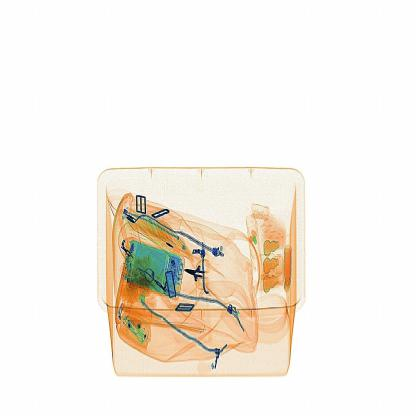gun: (178, 253, 223, 295)
